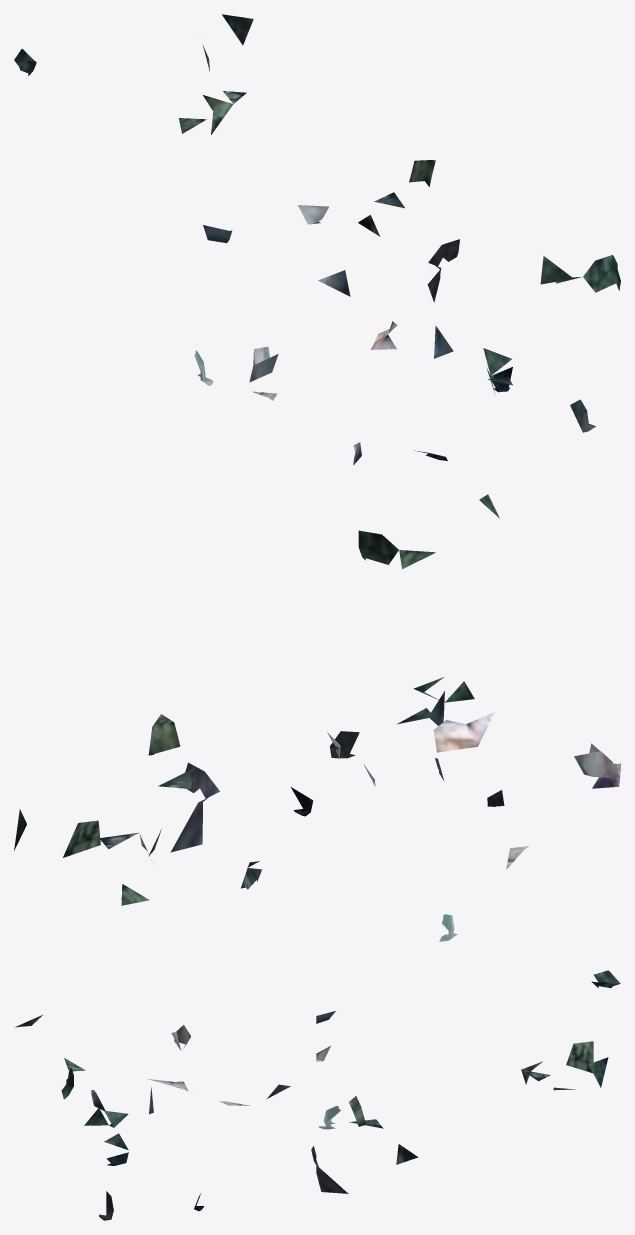
3 views of the same model, one above another, from view 1: azimuth 30°, elevation 25°; view 2: azimuth 150°, elevation 25°; view 3: azimuth 270°, elevation 25° (orthographic). The views are drawn at different scales.
Visible parts, largest first — view 1: 30436272704361526604_1; view 2: 30436272704361526604_1; view 3: 30436272704361526604_1.
Part boxes in pixels (x1,y1,x2,y2): 30436272704361526604_1: (14, 14, 620, 465); 30436272704361526604_1: (14, 494, 620, 941); 30436272704361526604_1: (14, 970, 620, 1220).
Bounding box in the file's own units: 16.72 × 11.71 × 37.48.
1 material, 1 textured.
